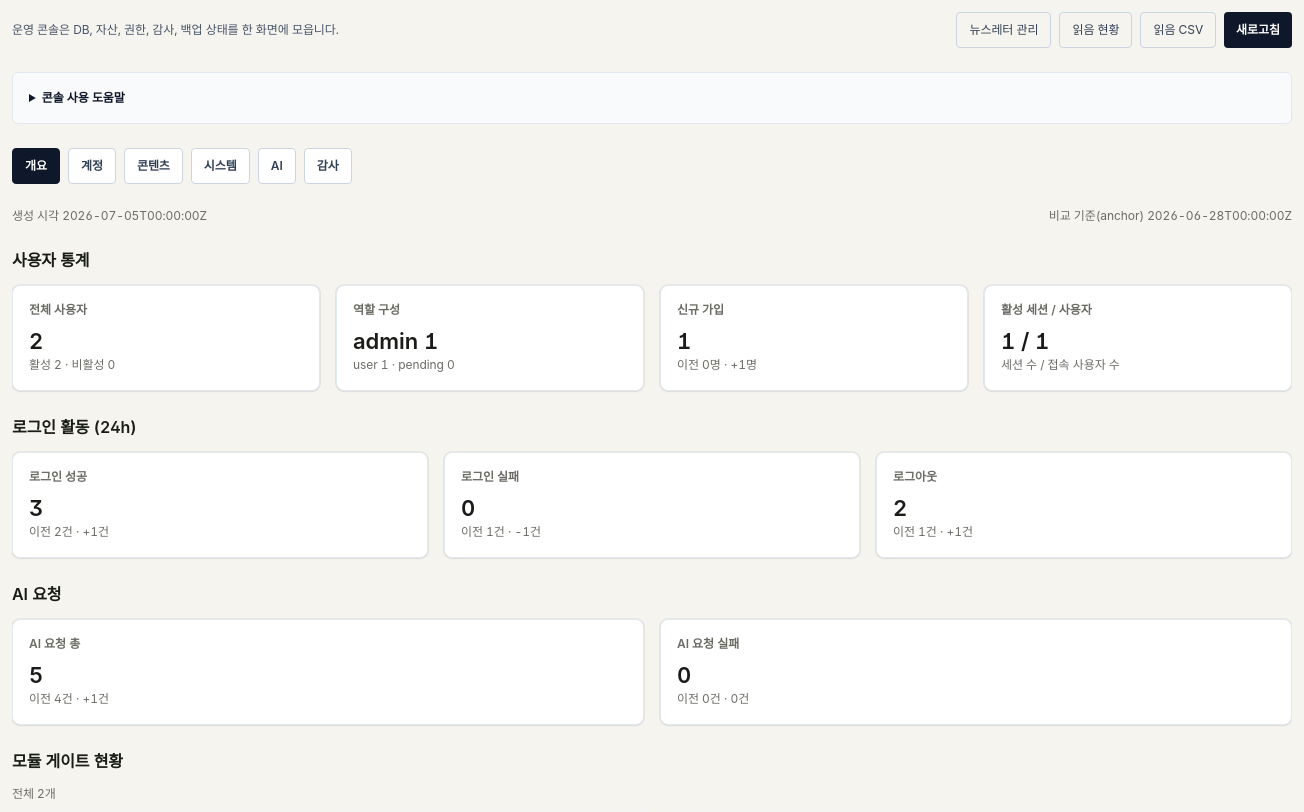
Test: reconcile reports safe reconciled/drift status from the flat reconcile response and an unrecognized test reason_code falls back to a generic safe message instea
Click the tab "AI" at (277, 166), box [258, 148, 296, 184]
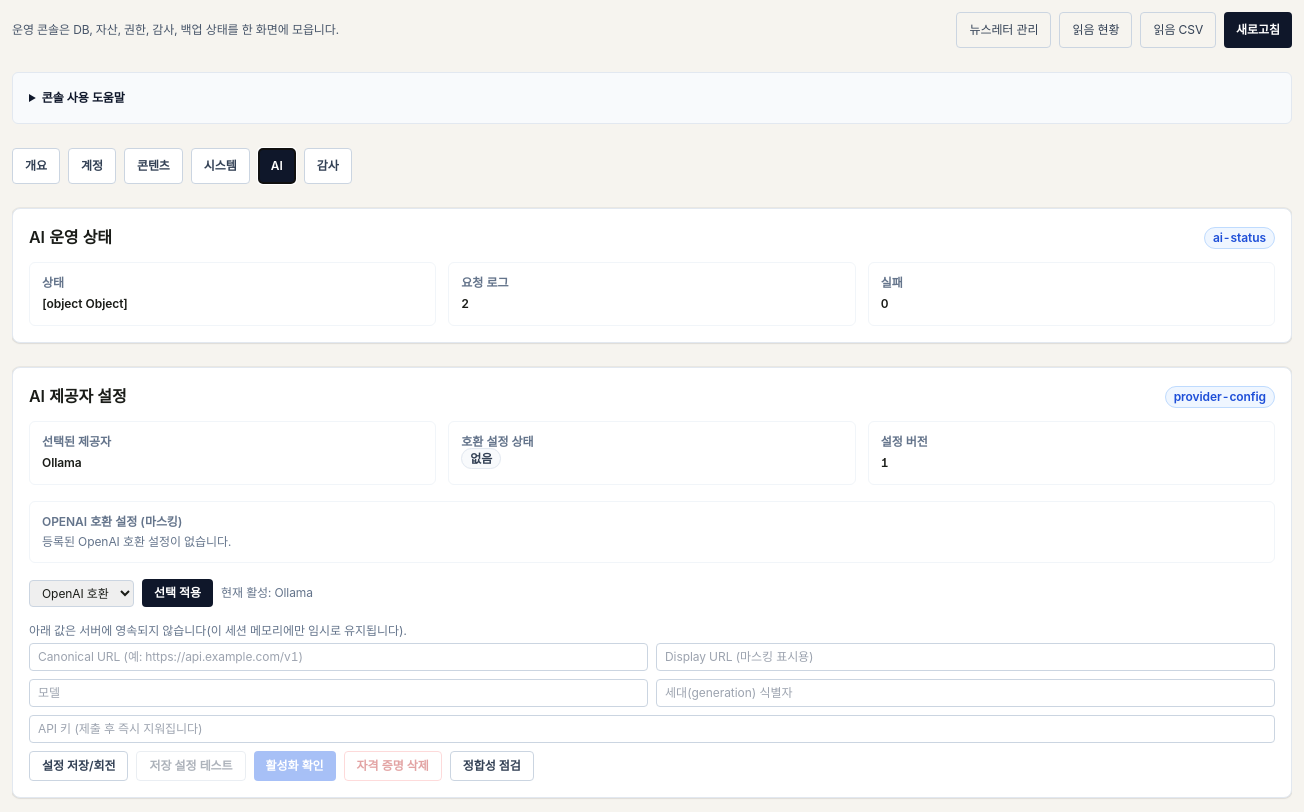
Click the button "정합성 점검" at (492, 766), box [450, 751, 534, 781]
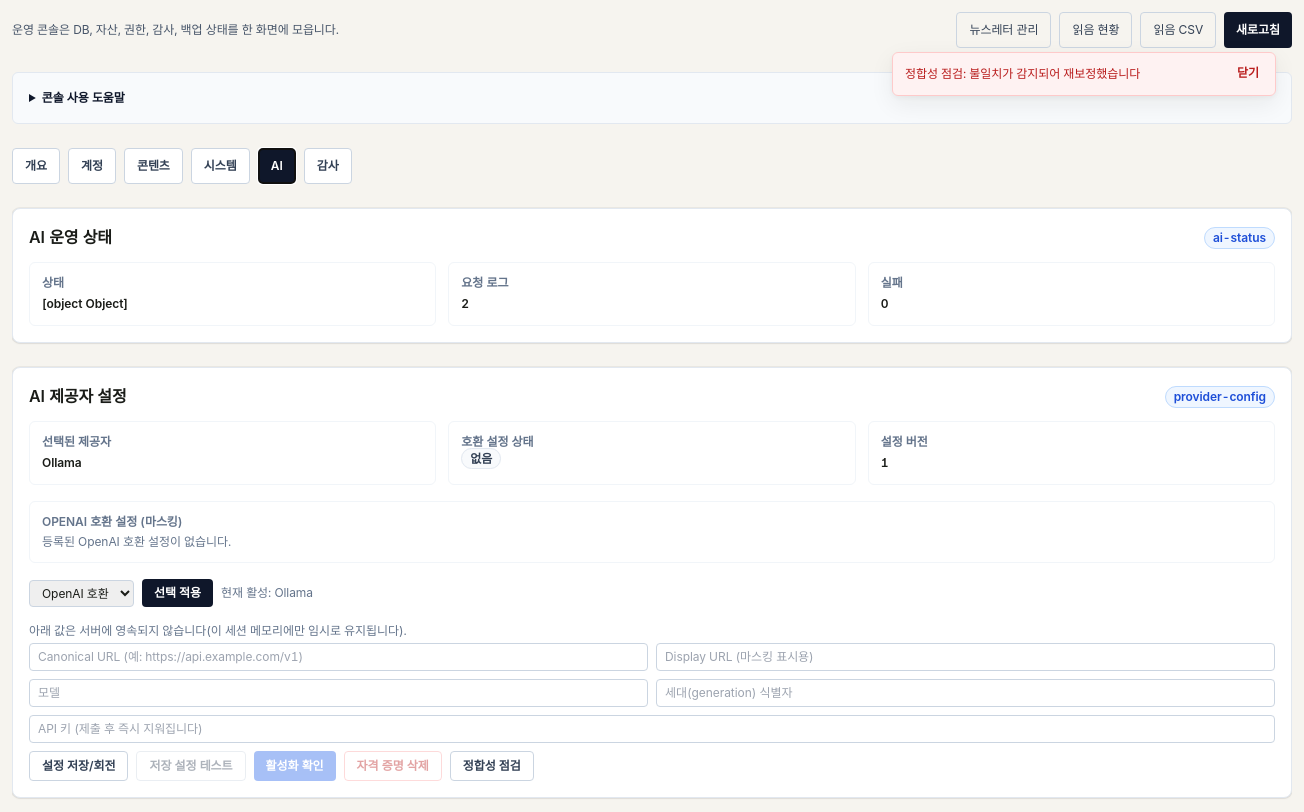
Check: the text "정합성 점검: 불일치가 감지되어 재보정했습니다" is shown, box [905, 65, 1140, 83]
